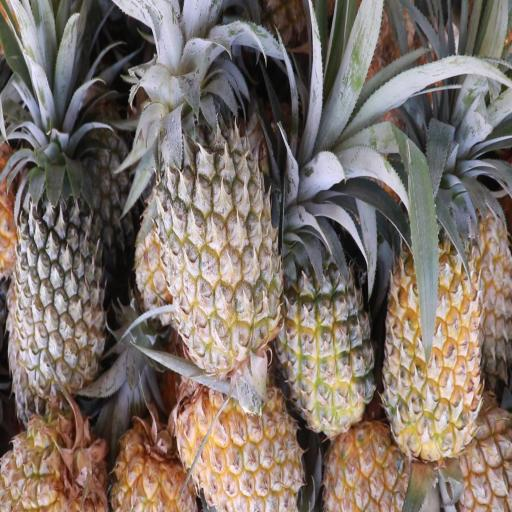------------------------------: (153, 42, 289, 392), (270, 189, 375, 441)
Pineapple - v8 v1: (380, 162, 486, 462), (174, 371, 308, 510)
